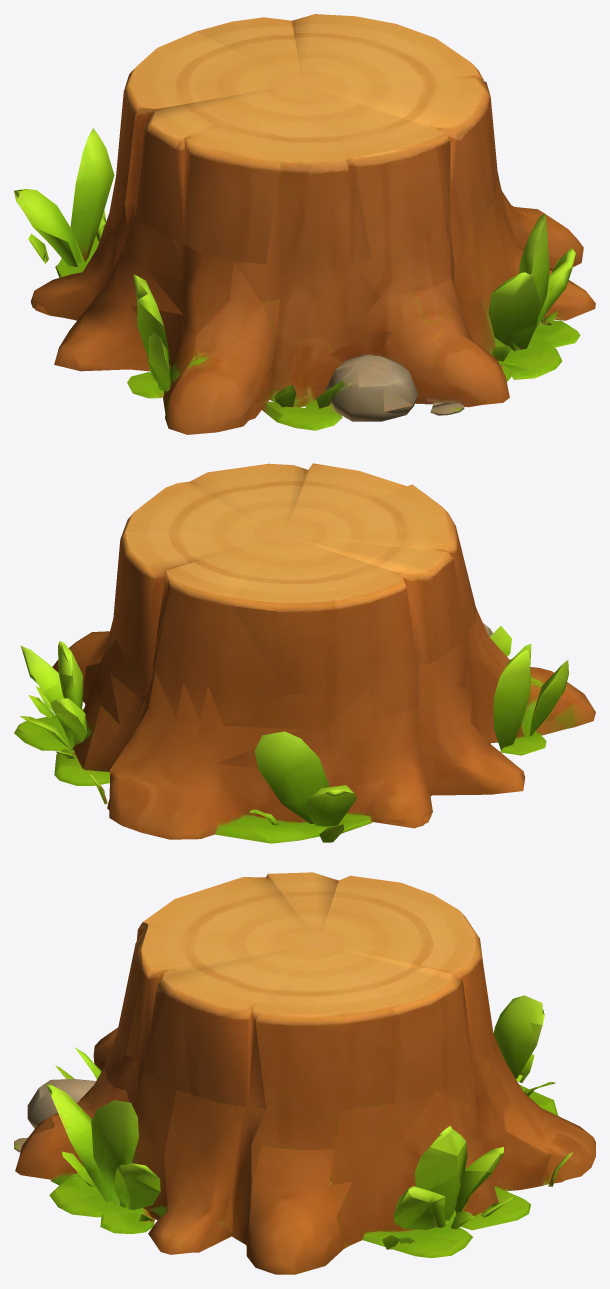
The model's file is stump.glb.
3 renders of one model, top to bottom at view 1: azimuth 30°, elevation 25°; view 2: azimuth 150°, elevation 25°; view 3: azimuth 270°, elevation 25°, orthographic. The views are drawn at different scales.
Size of the model in its own units: 0.9785 by 0.3984 by 1.
1 material, 1 textured.
